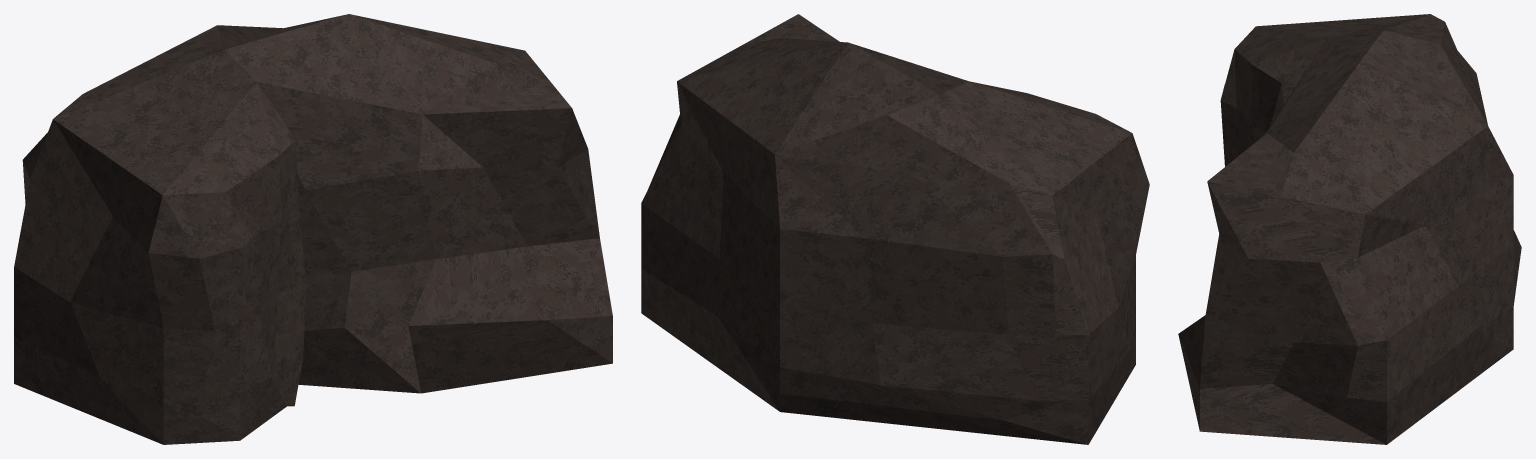
File: hill3.fbx
3 renders of one model, left to right at view 1: azimuth 30°, elevation 25°; view 2: azimuth 150°, elevation 25°; view 3: azimuth 270°, elevation 25°, orthographic. The views are drawn at different scales.
Visible parts, largest first — view 1: PolyShape__12_.002; view 2: PolyShape__12_.002; view 3: PolyShape__12_.002.
Part boxes in pixels (x1,y1,x2,y2): PolyShape__12_.002: [14, 14, 612, 444]; PolyShape__12_.002: [641, 14, 1149, 444]; PolyShape__12_.002: [1178, 14, 1521, 444].
Bounding box in the file's own units: 2889 × 1769 × 1879.
